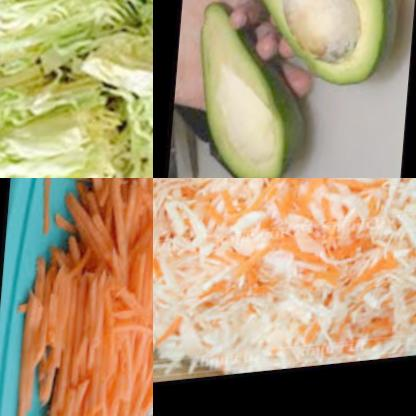avocado: (175, 0, 321, 178), (211, 0, 412, 114)
cabbage: (0, 0, 153, 178), (153, 274, 343, 387), (153, 178, 282, 295), (381, 178, 416, 259), (389, 254, 416, 343)
carrot: (27, 178, 153, 416), (204, 283, 294, 310), (278, 233, 331, 277), (357, 259, 410, 296), (332, 241, 383, 276), (282, 182, 323, 224), (366, 315, 401, 354), (231, 253, 271, 286), (217, 192, 249, 233), (342, 339, 389, 366), (160, 318, 190, 353), (305, 326, 333, 355), (344, 284, 368, 308), (153, 208, 164, 247)
